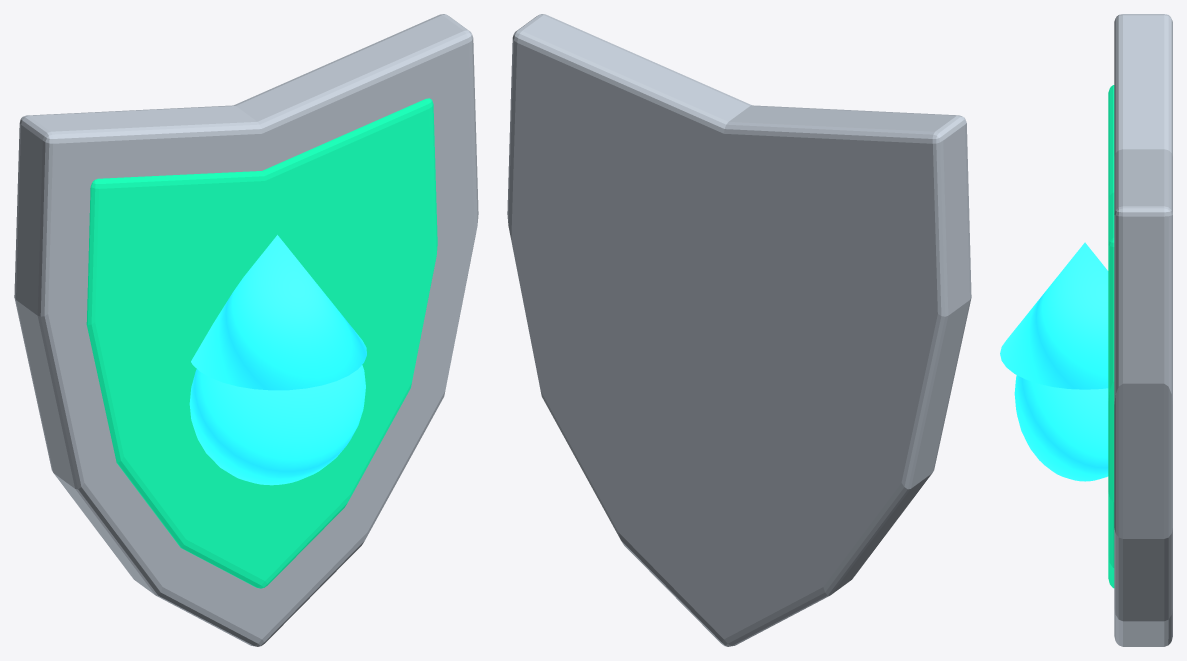
File: poolguard.glb
3 renders of one model, left to right at view 1: azimuth 30°, elevation 25°; view 2: azimuth 150°, elevation 25°; view 3: azimuth 270°, elevation 25°, orthographic. The views are drawn at different scales.
Visible parts, largest first — view 1: shield_inner, shield_outer, Cone, Sphere; view 2: shield_outer; view 3: shield_outer, Cone, Sphere, shield_inner.
Part boxes in pixels (x1,y1,x2,y2): shield_inner: [86, 98, 437, 588]; shield_outer: [14, 14, 478, 646]; Cone: [191, 235, 366, 390]; Sphere: [189, 365, 365, 485]; shield_outer: [507, 14, 971, 646]; shield_outer: [1114, 14, 1172, 646]; Cone: [1000, 242, 1108, 389]; Sphere: [1014, 375, 1108, 481]; shield_inner: [1108, 85, 1114, 588].
Size of the model in its own units: 1.64 by 2.01 by 0.59.
